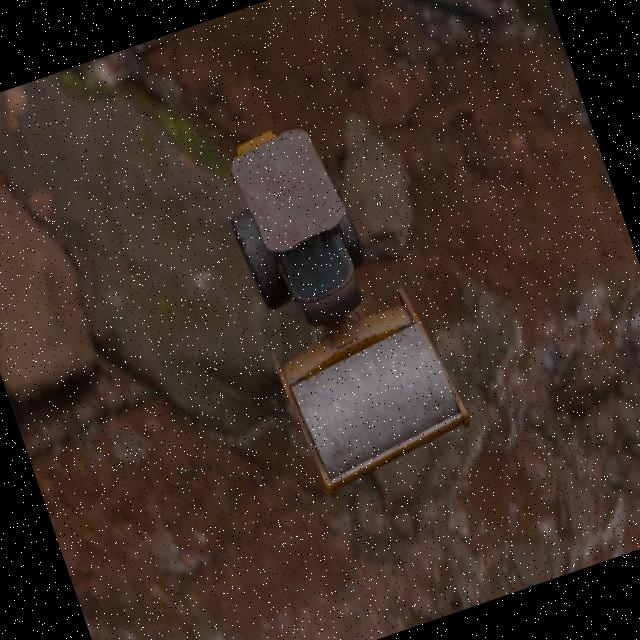Roller: (200, 99, 479, 502)
